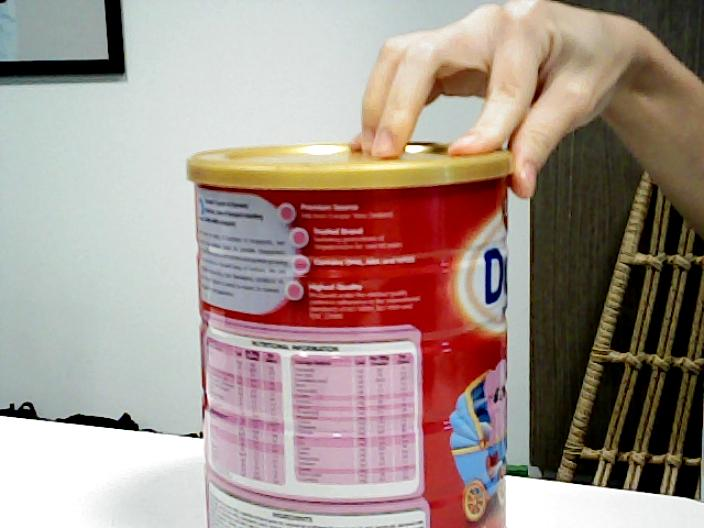Babymilk-powder-_800-899g_NonHalal_NonHealthy: (187, 142, 514, 528)
